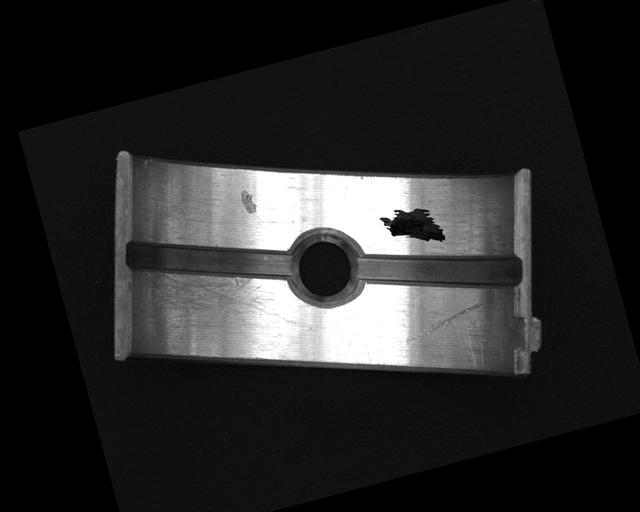blot: (377, 197, 447, 258)
bruise: (238, 187, 259, 216)
gap: (121, 202, 298, 319), (351, 215, 526, 324)
hole: (277, 223, 369, 314)
nick: (400, 300, 489, 346)
scratch: (130, 240, 295, 362)
